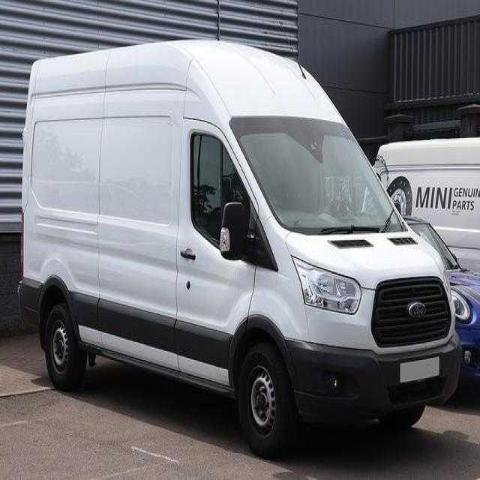van: (19, 38, 463, 461)
